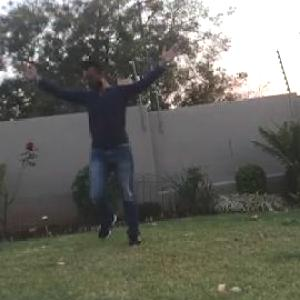takeoff: (17, 47, 181, 258)
